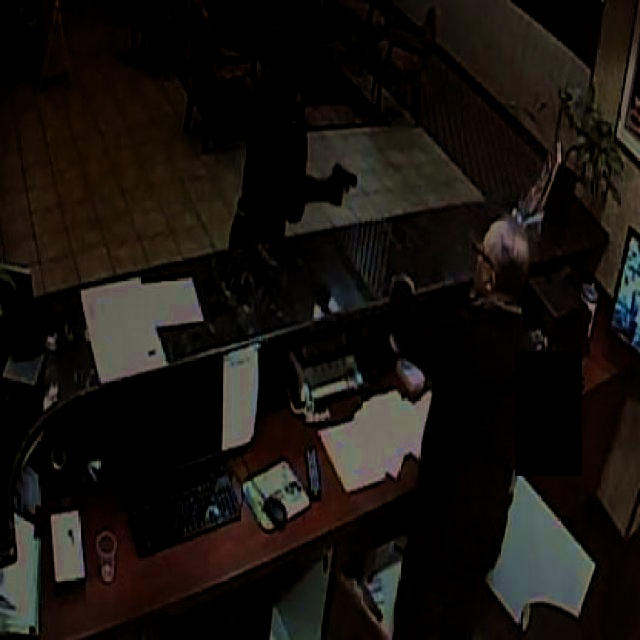gun: (324, 161, 361, 213)
